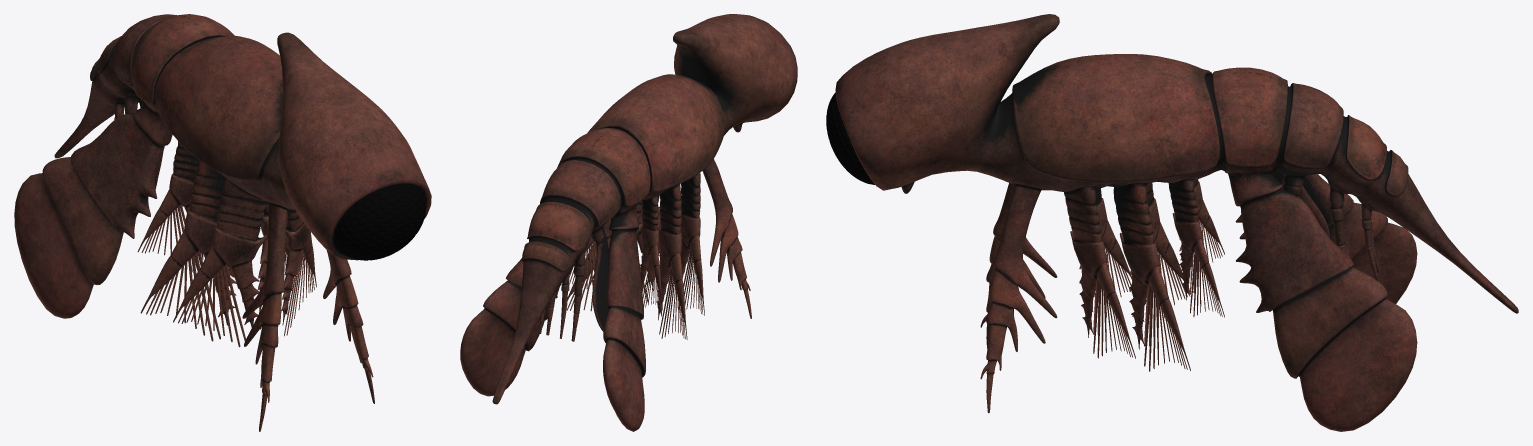
File: Cambropachycope - the owner of one of the oldest compound eyes (4001 scale).glb
The picture shows the model from 3 angles, left to right: view 1: azimuth 30°, elevation 25°; view 2: azimuth 150°, elevation 25°; view 3: azimuth 270°, elevation 25°; orthographic projection. The views are drawn at different scales.
Parts seen in each view (by area): view 1: Cambropachycope, eyes; view 2: Cambropachycope; view 3: Cambropachycope, eyes.
Boxes of the visible parts, left/top/right/bottom form: Cambropachycope: left=14, top=14, right=431, bottom=431; eyes: left=333, top=184, right=426, bottom=260; Cambropachycope: left=460, top=14, right=797, bottom=431; Cambropachycope: left=835, top=14, right=1518, bottom=431; eyes: left=826, top=92, right=874, bottom=184.
Size of the model in its own units: 0.2095 by 0.3746 by 0.632.
2 materials, 1 textured.
